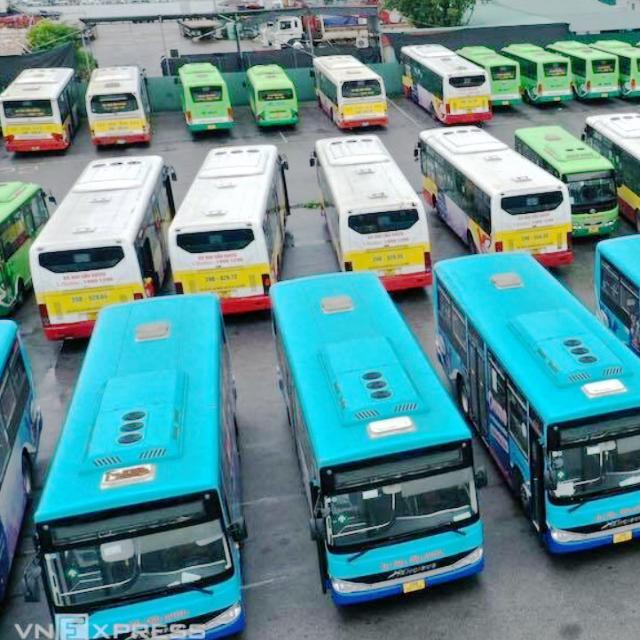Car: (68, 304, 225, 624), (306, 312, 475, 597), (501, 269, 640, 551), (332, 134, 433, 274), (69, 153, 145, 293), (206, 148, 275, 297), (473, 132, 549, 256), (567, 135, 625, 232), (324, 62, 390, 128), (17, 70, 71, 149), (437, 44, 486, 119), (92, 66, 146, 134), (256, 63, 304, 124), (183, 60, 227, 124), (530, 43, 564, 100)
